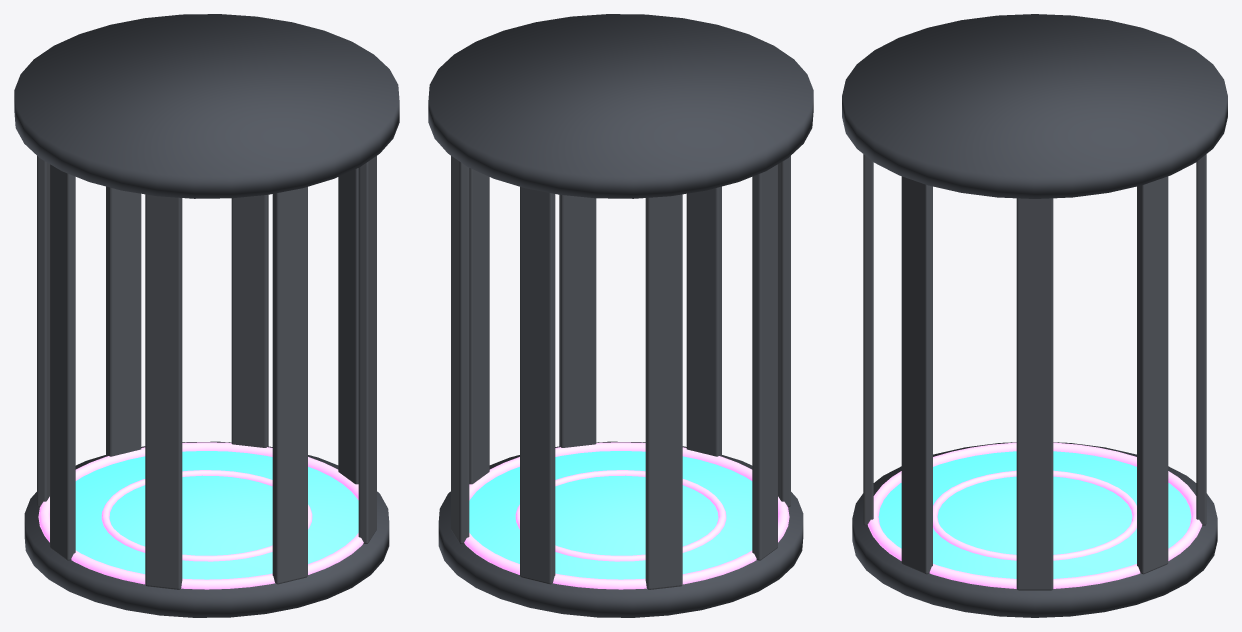
Rendered from teleporter_pad_booth.glb.
3 renders of one model, left to right at view 1: azimuth 30°, elevation 25°; view 2: azimuth 150°, elevation 25°; view 3: azimuth 270°, elevation 25°, orthographic.
Parts seen in each view (by area): view 1: GD_teleporter_pad_booth__m2, GD_teleporter_pad_booth__m0, GD_teleporter_pad_booth__m3, GD_teleporter_pad_booth__m1; view 2: GD_teleporter_pad_booth__m2, GD_teleporter_pad_booth__m0, GD_teleporter_pad_booth__m3, GD_teleporter_pad_booth__m1; view 3: GD_teleporter_pad_booth__m0, GD_teleporter_pad_booth__m2, GD_teleporter_pad_booth__m3, GD_teleporter_pad_booth__m1.
Boxes of the visible parts, left/top/right/bottom form: GD_teleporter_pad_booth__m2: left=37, top=156, right=376, bottom=589; GD_teleporter_pad_booth__m0: left=14, top=14, right=399, bottom=617; GD_teleporter_pad_booth__m3: left=75, top=451, right=358, bottom=579; GD_teleporter_pad_booth__m1: left=38, top=442, right=363, bottom=589; GD_teleporter_pad_booth__m2: left=451, top=156, right=790, bottom=589; GD_teleporter_pad_booth__m0: left=428, top=14, right=813, bottom=617; GD_teleporter_pad_booth__m3: left=469, top=451, right=752, bottom=579; GD_teleporter_pad_booth__m1: left=464, top=442, right=789, bottom=589; GD_teleporter_pad_booth__m0: left=842, top=14, right=1227, bottom=617; GD_teleporter_pad_booth__m2: left=863, top=154, right=1206, bottom=590; GD_teleporter_pad_booth__m3: left=878, top=451, right=1191, bottom=578; GD_teleporter_pad_booth__m1: left=867, top=442, right=1202, bottom=588.
Bounding box in the file's own units: 1.9 × 2.42 × 1.9.
